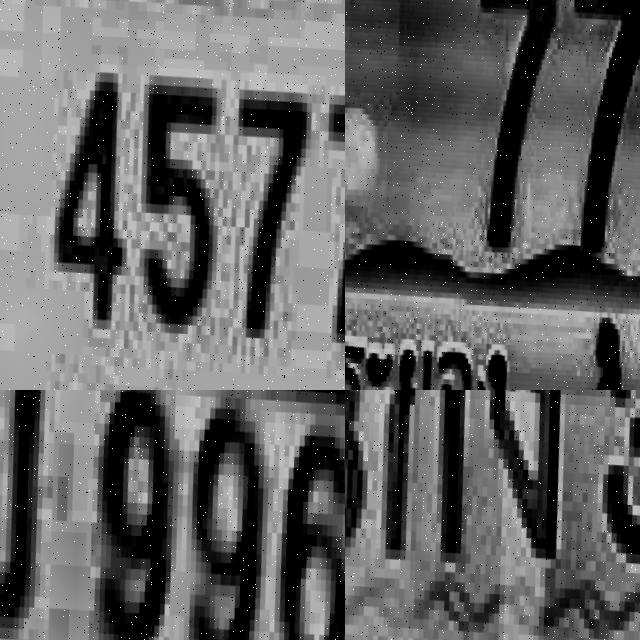license-plate: (0, 0, 345, 390), (345, 0, 640, 390), (0, 390, 345, 640), (345, 390, 640, 640)
